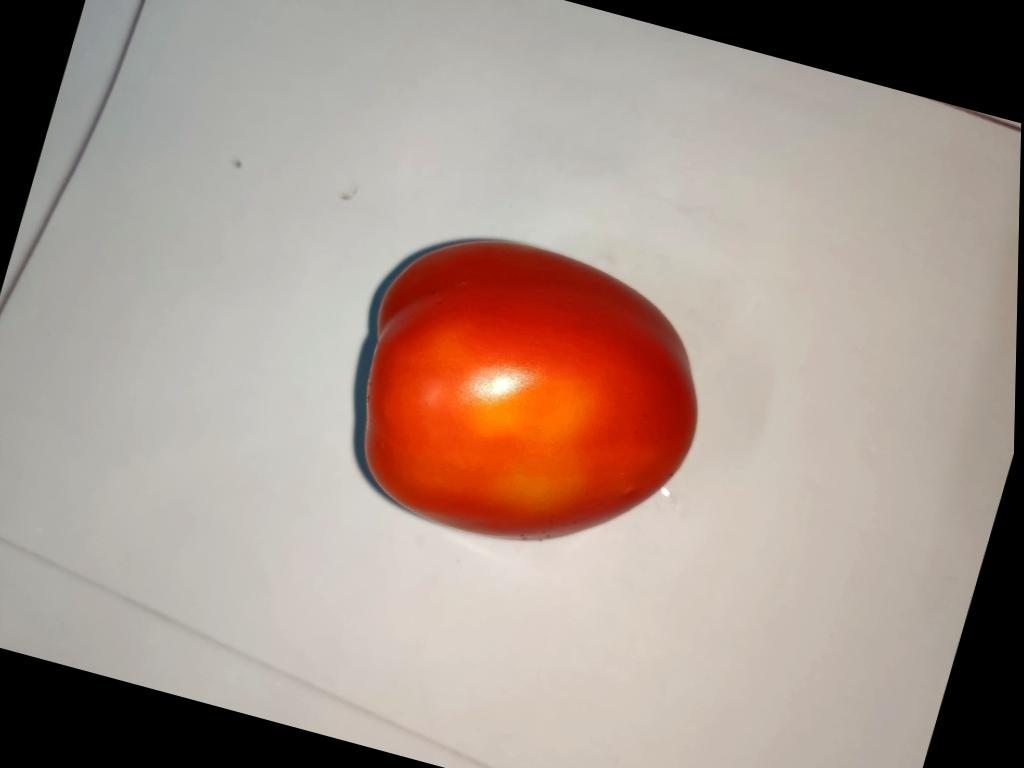bruise_discoloration: (435, 362, 601, 445), (498, 446, 581, 509)
tomato: (365, 243, 695, 539)
